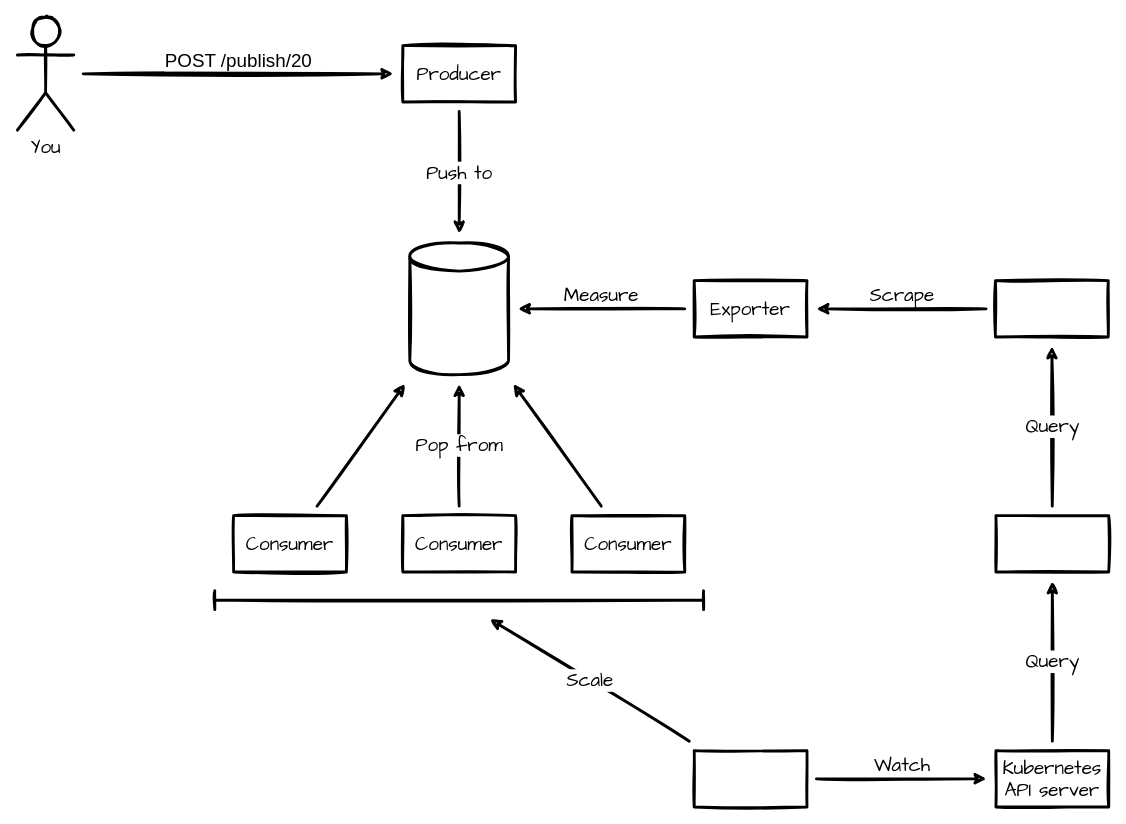
The diagram is 1126 pixels wide and 824 high, and some of its shapes have lost their labels. The centre of each missing label's shape, as x and y in pixels:
HPA: [750,778]
Prometheus: [1051,308]
Prometheus adapter: [1052,543]
Redis queue: [458,308]
